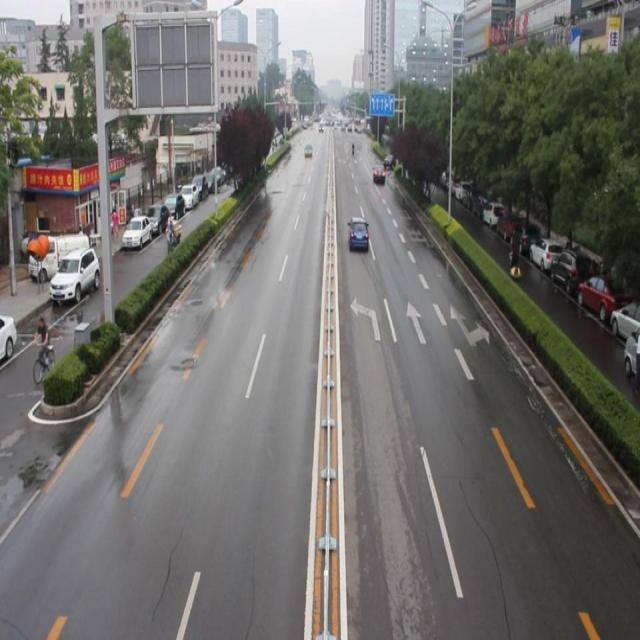car: (346, 216, 368, 250), (371, 164, 384, 182)
